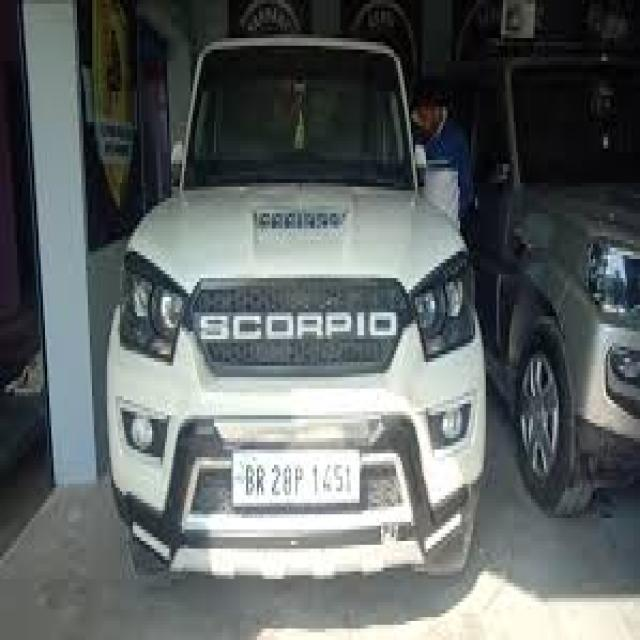cars: (103, 22, 492, 617), (437, 7, 640, 527)
